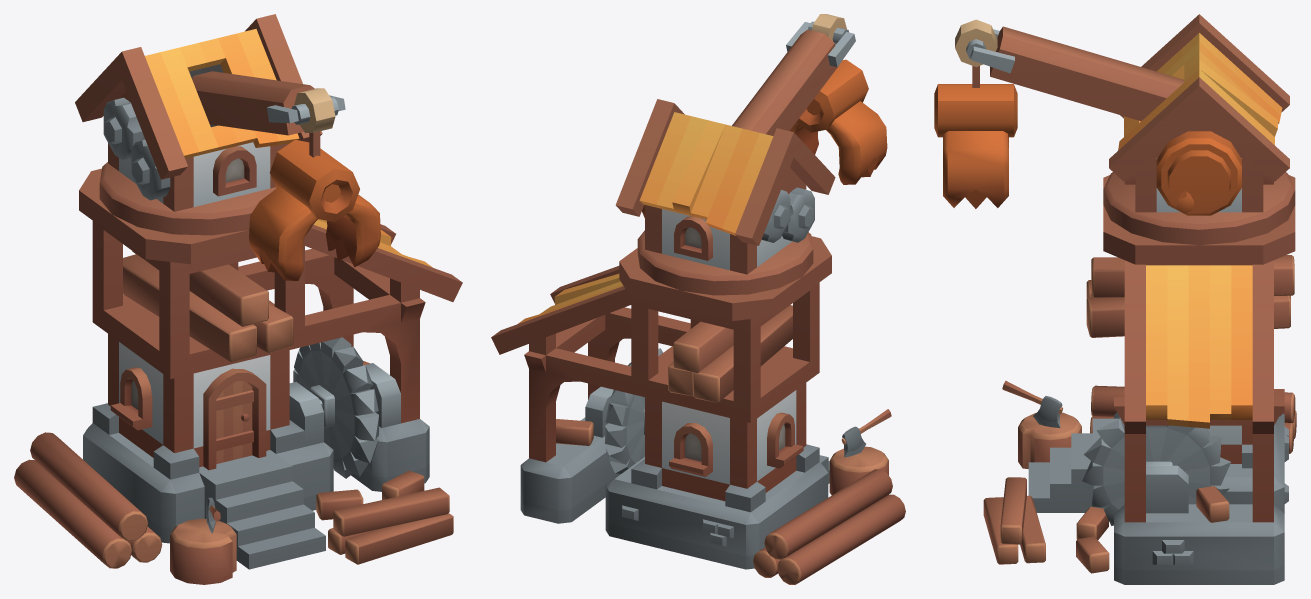
The model's file is building_lumbermill_yellow.gltf.
3 views of the same model, side by side, from view 1: azimuth 30°, elevation 25°; view 2: azimuth 150°, elevation 25°; view 3: azimuth 270°, elevation 25° (orthographic). The views are drawn at different scales.
Visible parts, largest first — view 1: building_lumbermill_yellow, building_lumbermill_top_yellow, building_lumbermill_saw_yellow; view 2: building_lumbermill_yellow, building_lumbermill_top_yellow, building_lumbermill_saw_yellow; view 3: building_lumbermill_yellow, building_lumbermill_top_yellow, building_lumbermill_saw_yellow.
Boxes of the visible parts, x1,y1,x2,y2 form: building_lumbermill_yellow: (14,168,462,584); building_lumbermill_top_yellow: (75,14,380,280); building_lumbermill_saw_yellow: (293,337,378,478); building_lumbermill_yellow: (491,236,905,584); building_lumbermill_top_yellow: (615,14,887,295); building_lumbermill_saw_yellow: (605,348,662,474); building_lumbermill_yellow: (983,175,1296,584); building_lumbermill_top_yellow: (934,14,1295,245); building_lumbermill_saw_yellow: (1082,417,1231,525).
Size of the model in its own units: 1.37 by 1.71 by 1.19.
1 material, 1 textured.
